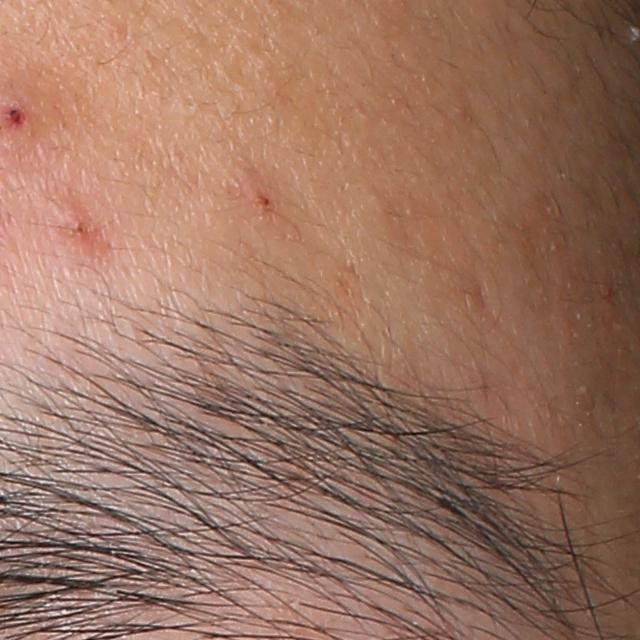papule: (245, 163, 284, 222), (60, 207, 109, 250)
